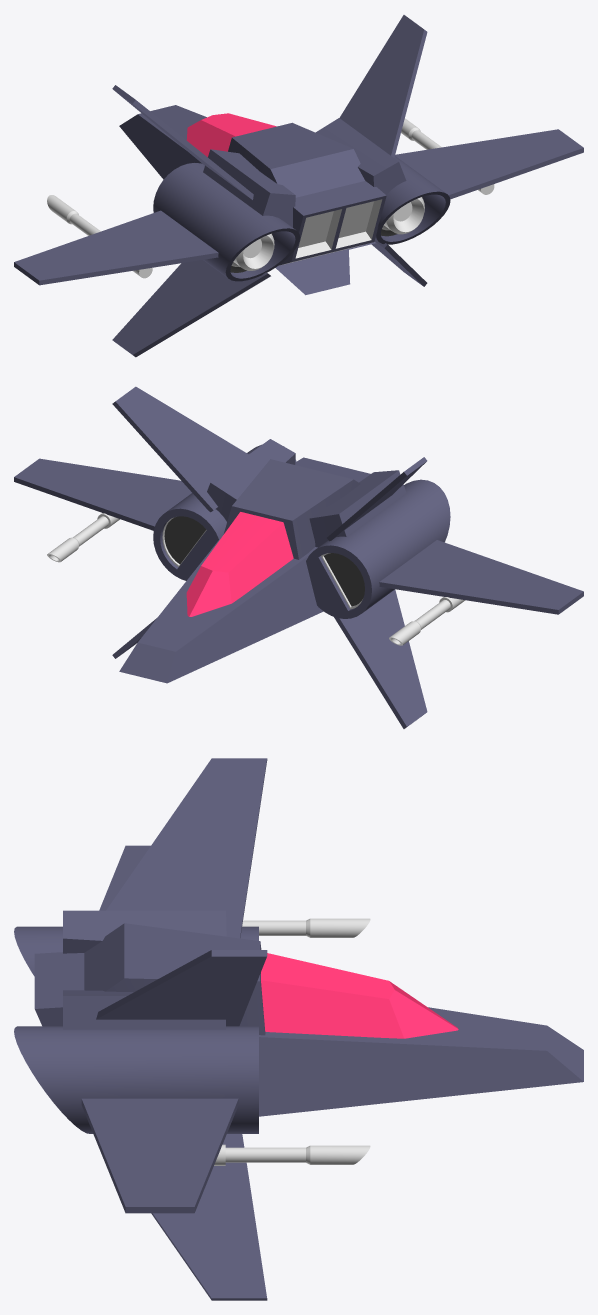
File: spaceship.fbx
The picture shows the model from 3 angles, top to bottom: view 1: azimuth 30°, elevation 25°; view 2: azimuth 150°, elevation 25°; view 3: azimuth 270°, elevation 25°; orthographic projection. The views are drawn at different scales.
Visible parts, largest first — view 1: ShipBody, ShipWings, ShipExtraWings, ShipCanons; view 2: ShipBody, ShipWings, ShipExtraWings, ShipCanons; view 3: ShipBody, ShipExtraWings, ShipWings, ShipCanons.
Boxes of the visible parts, x1,y1,x2,y2 form: ShipBody: (119, 105, 450, 295); ShipWings: (14, 129, 583, 285); ShipExtraWings: (112, 15, 427, 357); ShipCanons: (47, 118, 494, 278); ShipBody: (119, 439, 450, 683); ShipWings: (14, 458, 583, 614); ShipExtraWings: (112, 386, 427, 728); ShipCanons: (47, 513, 464, 645); ShipBody: (14, 910, 583, 1133); ShipExtraWings: (96, 758, 267, 1300); ShipWings: (81, 845, 238, 1213); ShipCanons: (214, 918, 370, 1165).
Size of the model in its own units: 10.87 by 4.91 by 7.24.
